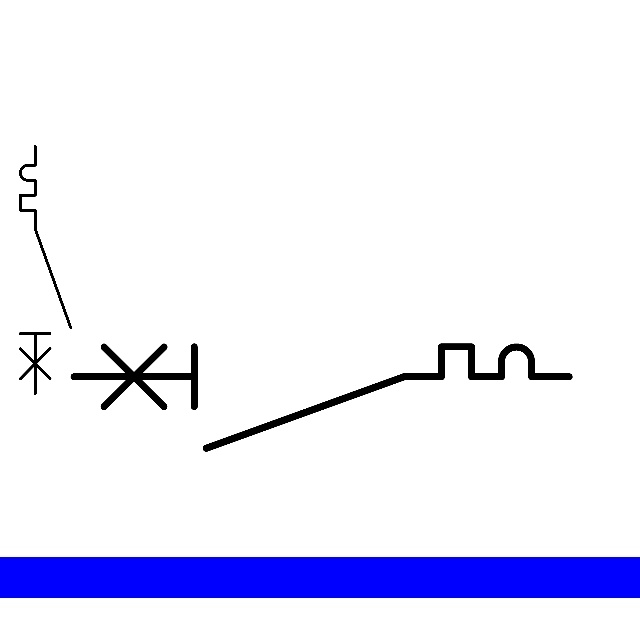interruptor_termomagnetico: (61, 334, 582, 461), (14, 140, 77, 400)
